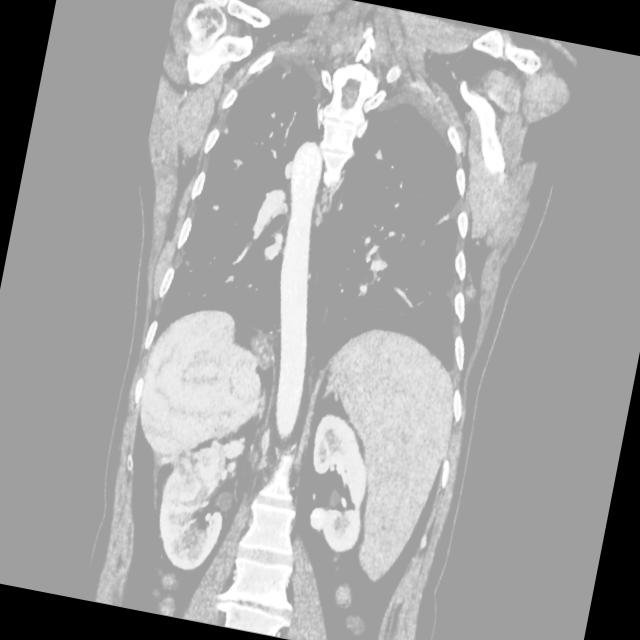TUMOR: (0, 263, 468, 569)
